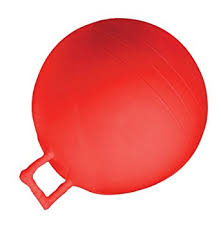buoy: (31, 18, 208, 195)
